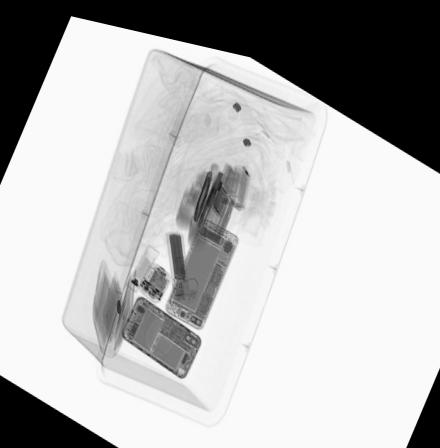Powerbank: (162, 221, 188, 296)
